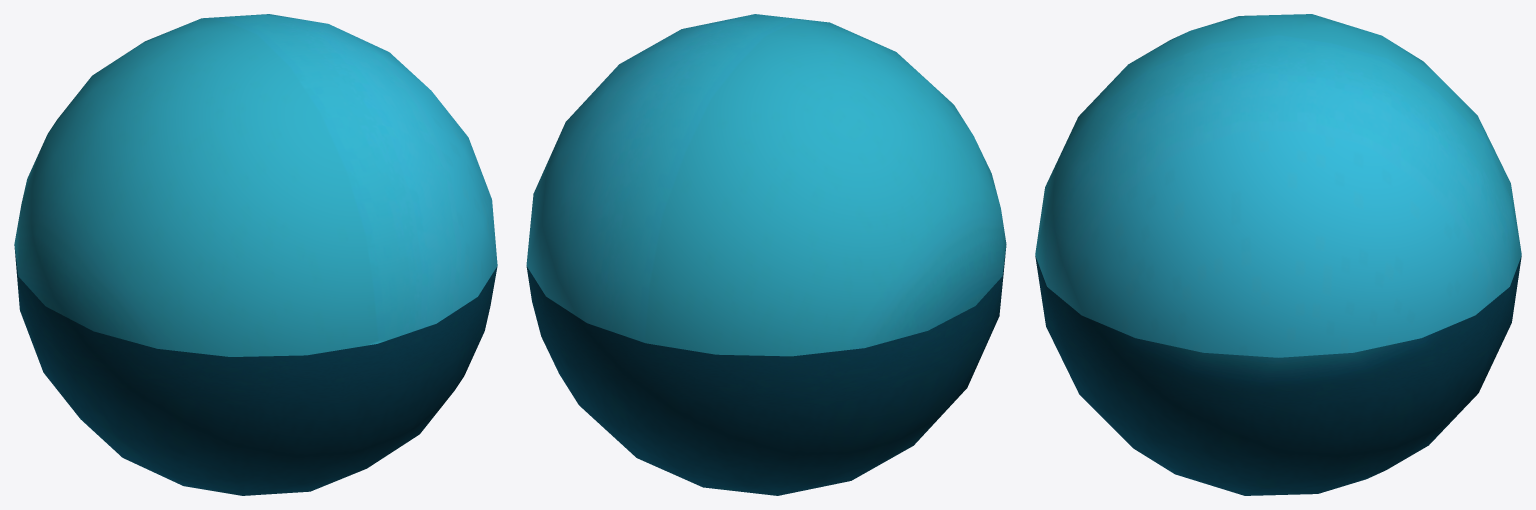
Rendered from LastBossMap_S.fbx.
The picture shows the model from 3 angles, left to right: view 1: azimuth 30°, elevation 25°; view 2: azimuth 150°, elevation 25°; view 3: azimuth 270°, elevation 25°; orthographic projection.
Parts seen in each view (by area): view 1: icecrownarthasdeathsky; view 2: icecrownarthasdeathsky; view 3: icecrownarthasdeathsky.
Boxes of the visible parts, <box> form: icecrownarthasdeathsky: <box>14,14,497,495</box>; icecrownarthasdeathsky: <box>526,14,1006,495</box>; icecrownarthasdeathsky: <box>1035,14,1521,495</box>.
Bounding box in the file's own units: 24451 × 24451 × 24451.
